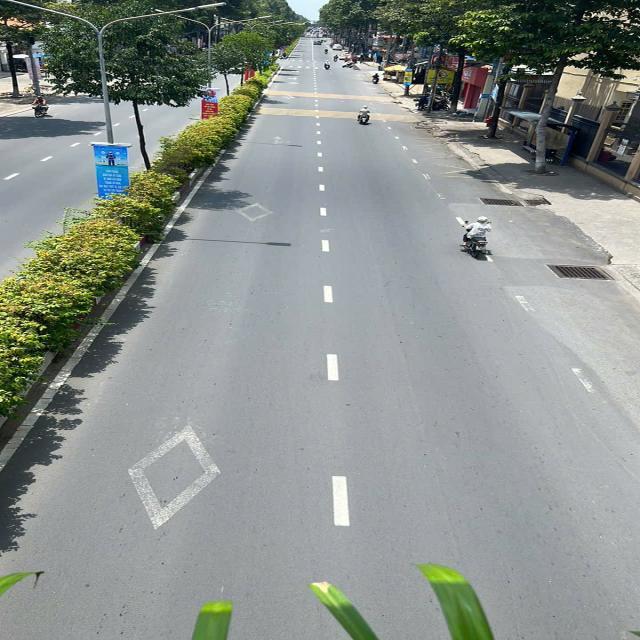car: (345, 56, 356, 64), (340, 54, 352, 60), (331, 44, 343, 50), (314, 40, 322, 45)
motobyte: (465, 218, 493, 260), (356, 105, 372, 125), (374, 72, 381, 86), (324, 60, 329, 70), (349, 60, 352, 68), (334, 55, 337, 61), (325, 49, 328, 54)
